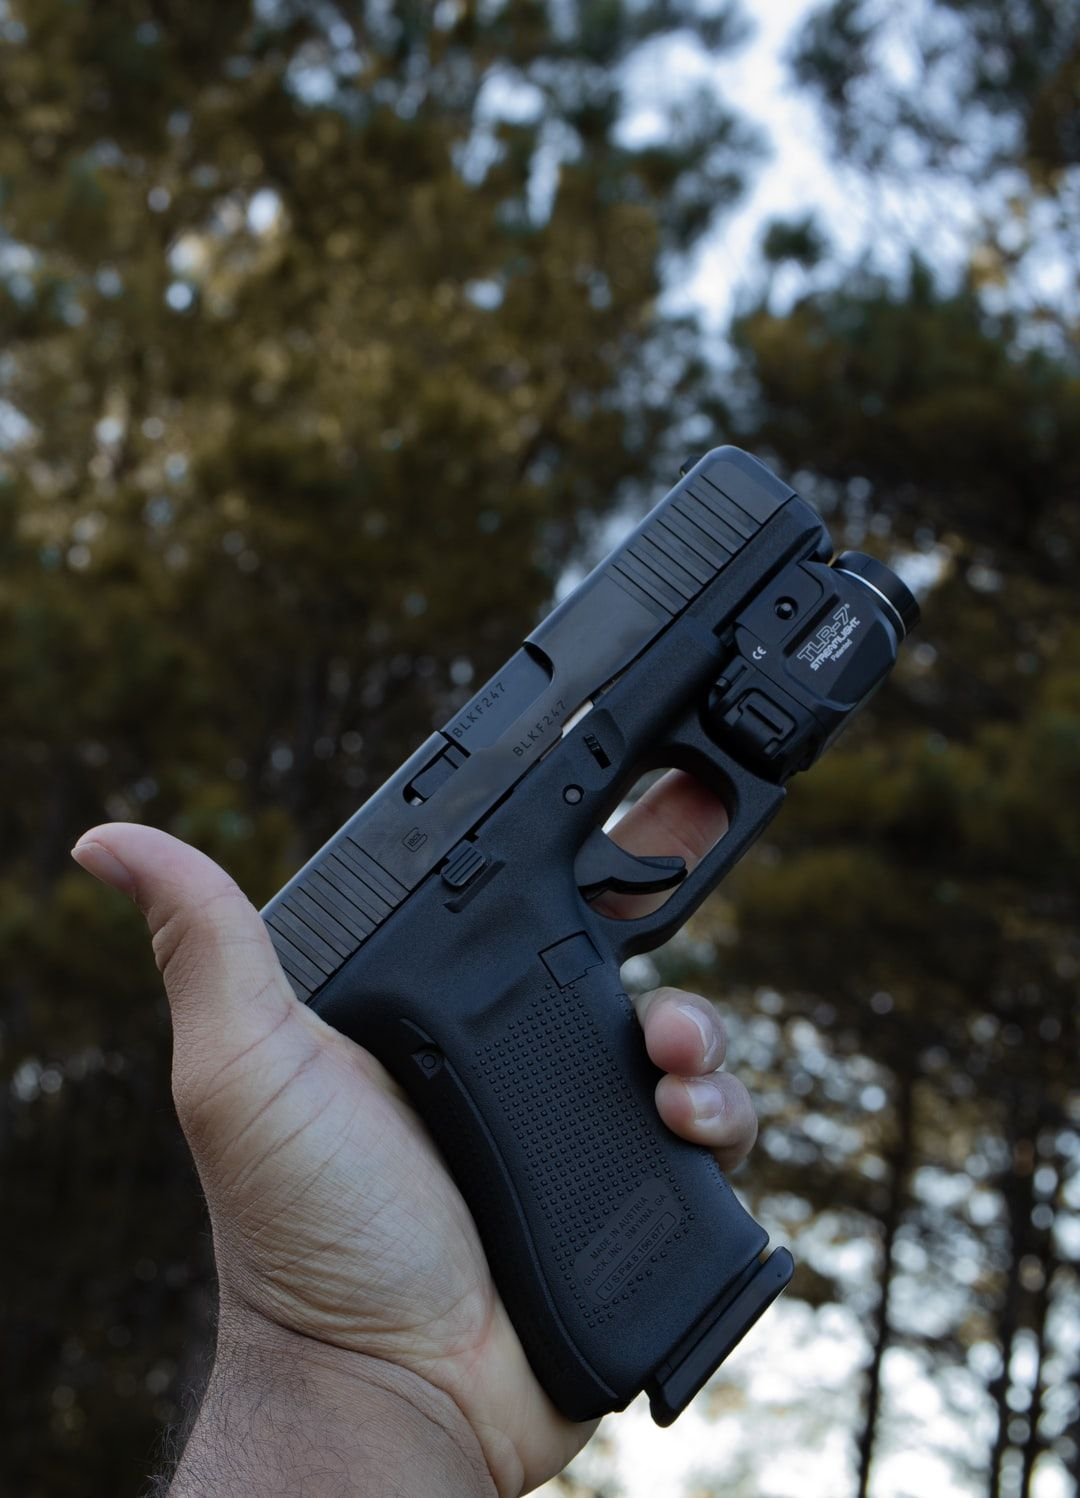gun: (249, 426, 938, 1439)
